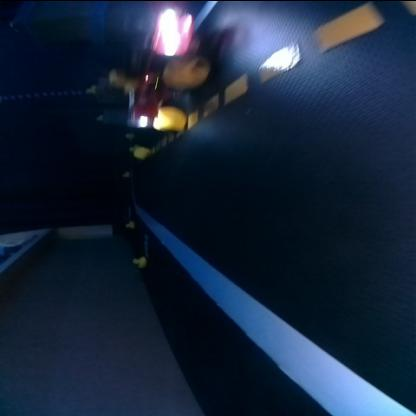Duckie: (108, 68, 134, 90), (132, 146, 148, 158), (132, 255, 146, 266), (85, 84, 95, 92), (124, 220, 132, 226), (121, 171, 129, 176), (95, 115, 103, 119)
Duckiebot: (127, 7, 209, 127)
QR code: (141, 233, 150, 254)
